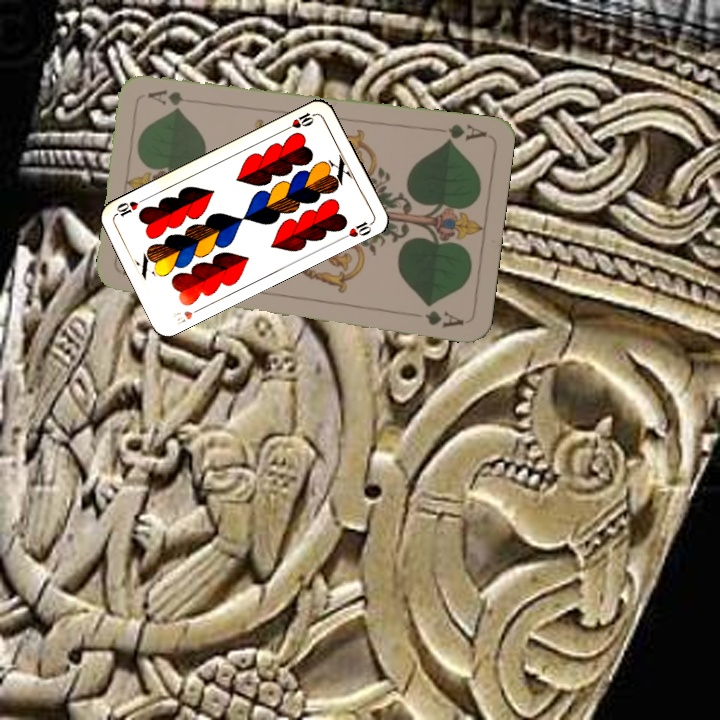GA: (440, 120, 489, 146)
H10: (281, 108, 320, 133), (172, 303, 205, 328)
